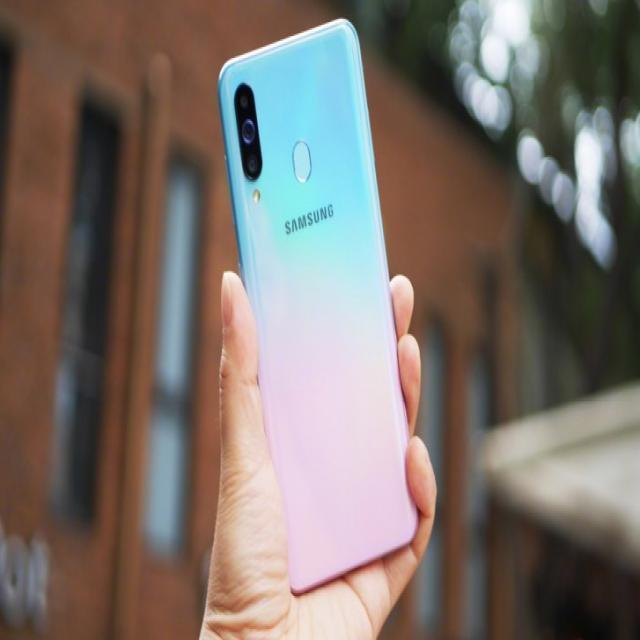phone: (216, 20, 422, 590)
